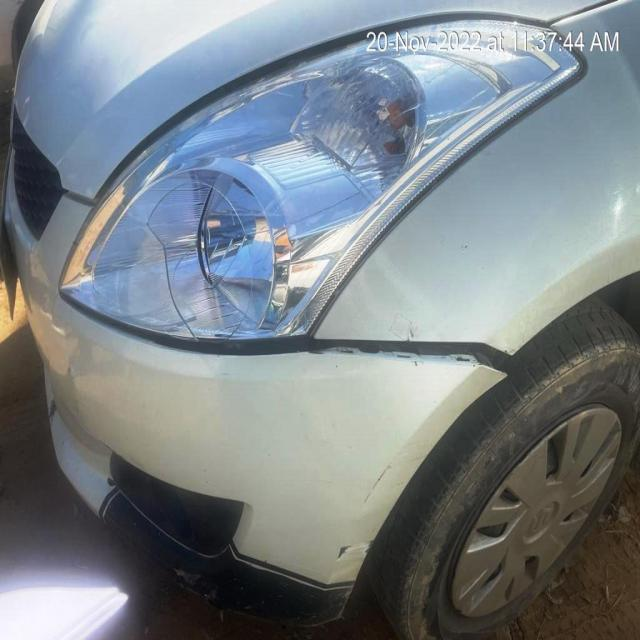damage: (124, 329, 510, 373), (334, 463, 398, 591), (596, 10, 640, 100), (62, 362, 92, 420), (47, 390, 58, 432)
